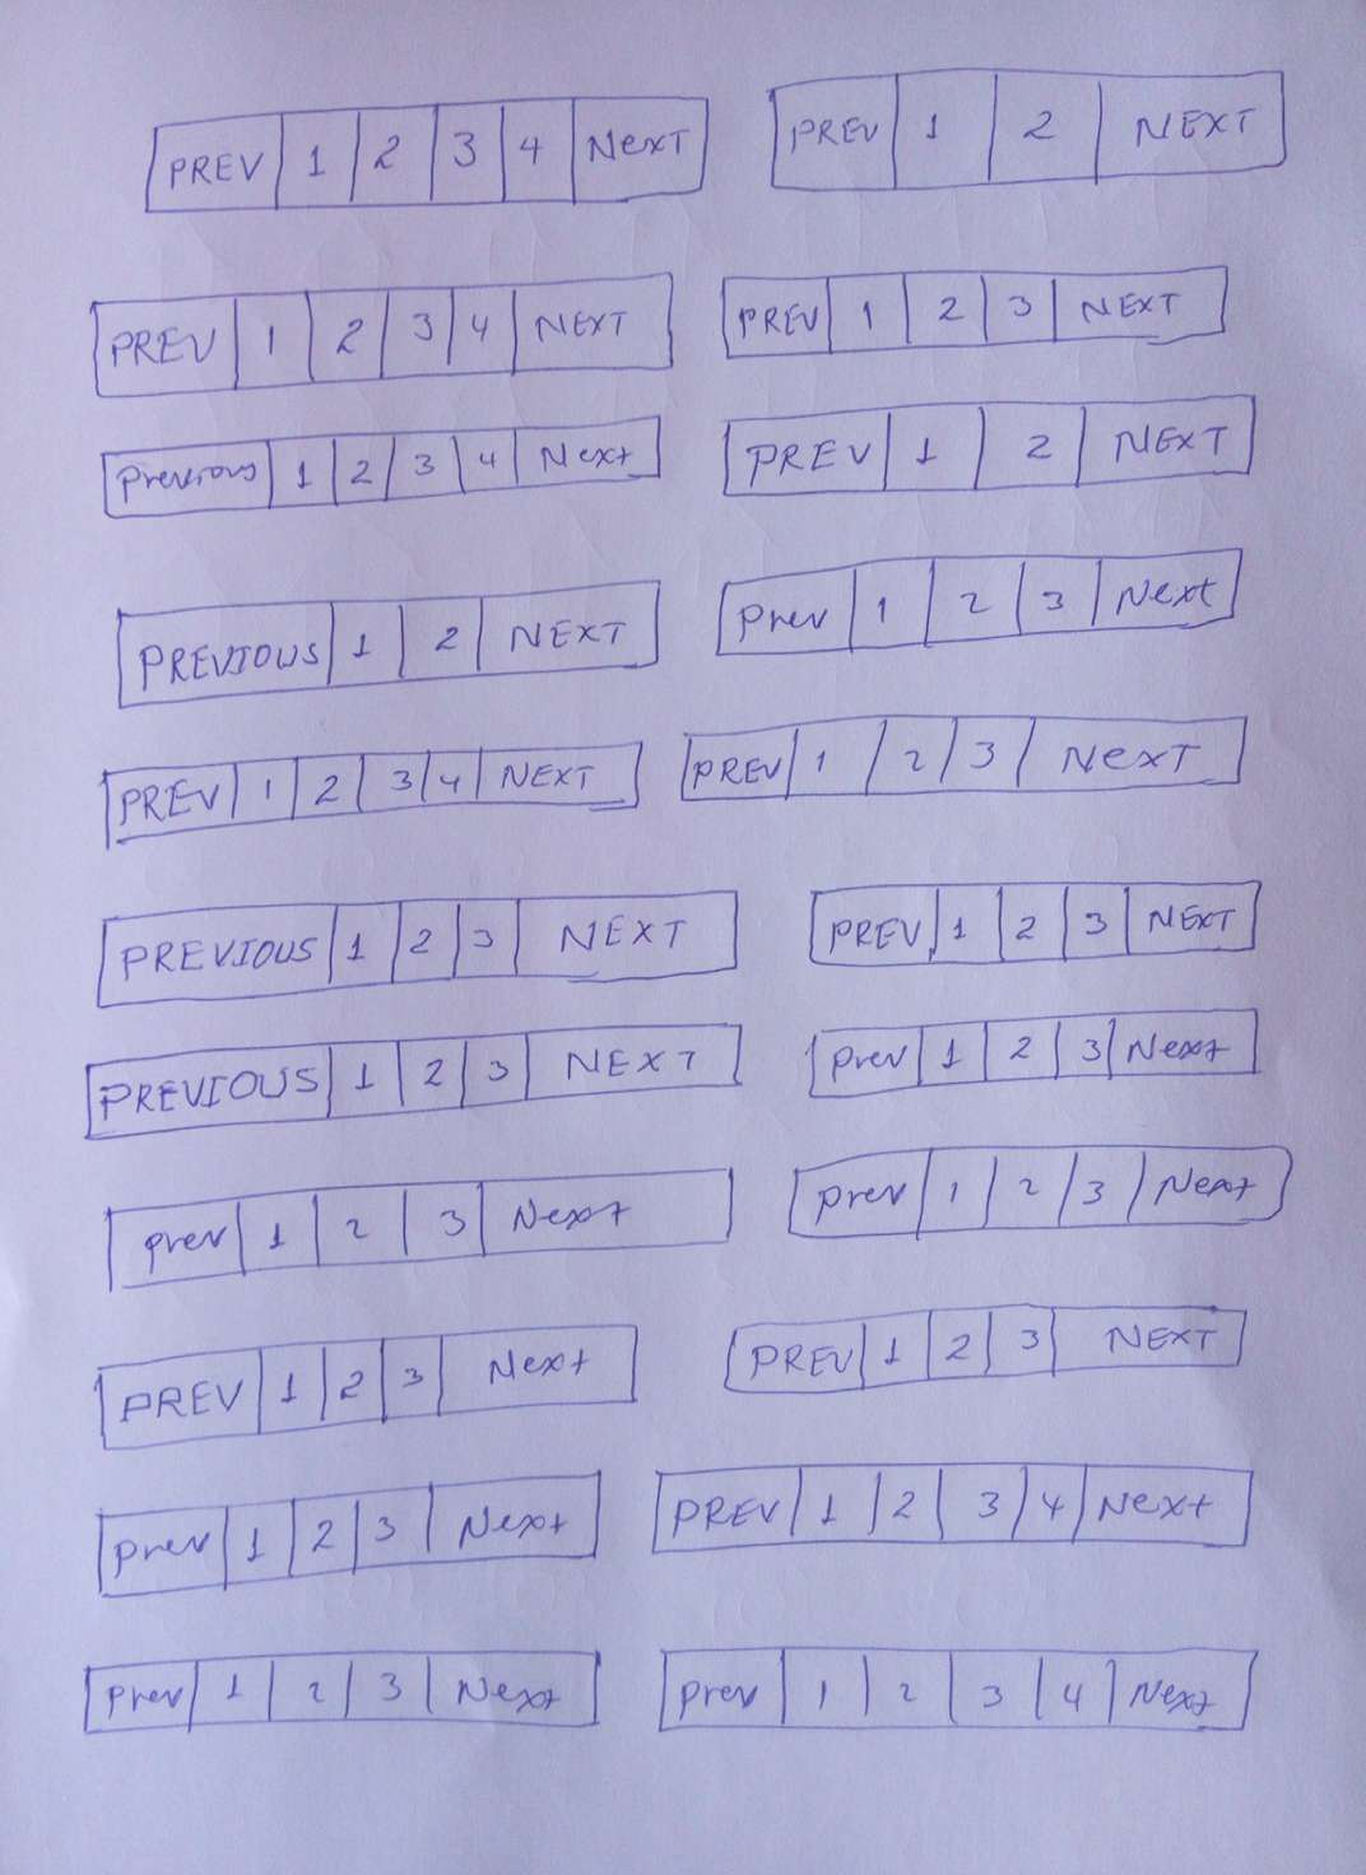Pagination: (92, 885, 743, 1013), (102, 1165, 737, 1296), (82, 1020, 743, 1141), (89, 266, 677, 402), (95, 1317, 641, 1457), (111, 576, 664, 713), (138, 92, 712, 217), (95, 1467, 601, 1607), (762, 67, 1289, 195), (99, 412, 663, 526), (99, 737, 647, 852), (716, 392, 1260, 502), (712, 547, 1247, 659), (644, 1460, 1255, 1558), (652, 1642, 1264, 1737), (782, 1137, 1295, 1245), (676, 712, 1251, 806), (719, 261, 1233, 365), (719, 1301, 1247, 1398), (77, 1644, 604, 1738), (805, 1004, 1263, 1101), (804, 878, 1263, 970)
